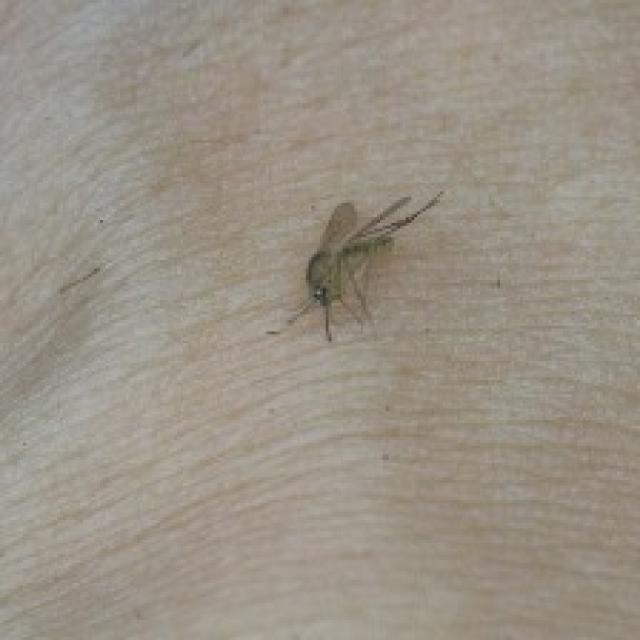culex: (263, 186, 443, 343)
